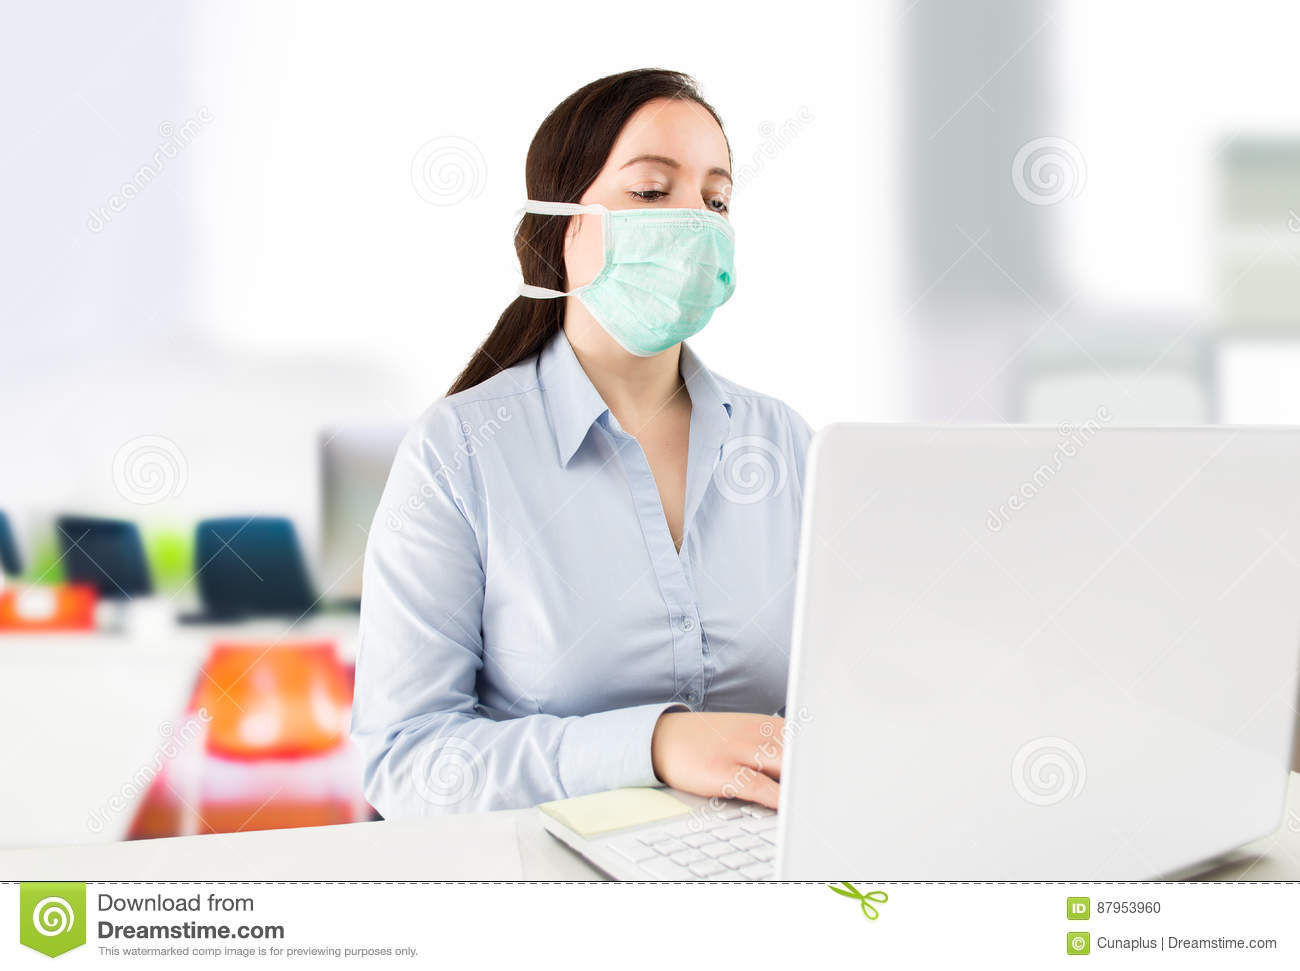mask: (587, 203, 738, 358)
